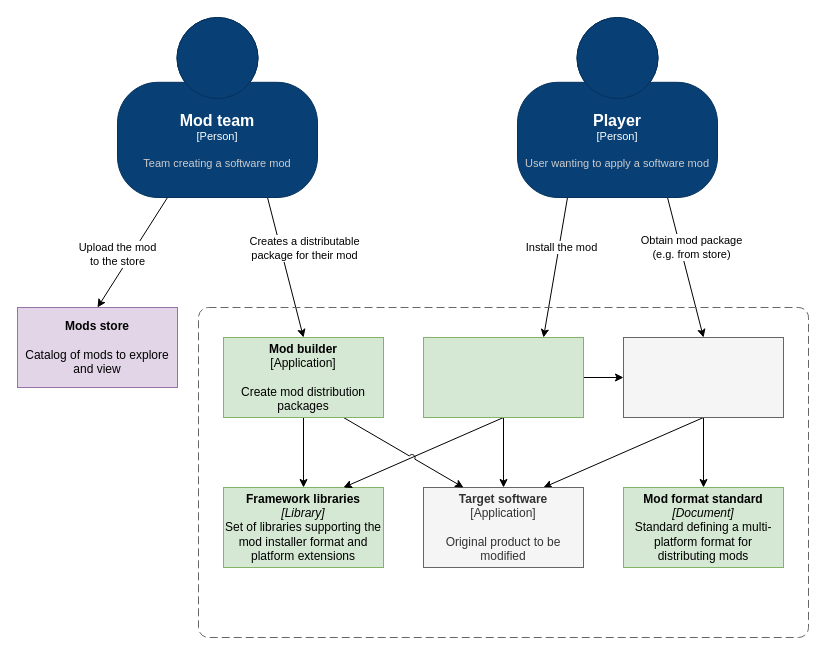
This 826x655 diagram has some shape labels left out. The box of each missing label's shape, as (x1, y1, x2, y2) in pixels:
Mod installer [Application] Multi-platform installer for mods: (422, 336, 584, 418)
Mods [File(s)] Modifications for the target software: (622, 336, 784, 418)
Universal mod installer [Software System]: (198, 306, 808, 638)
